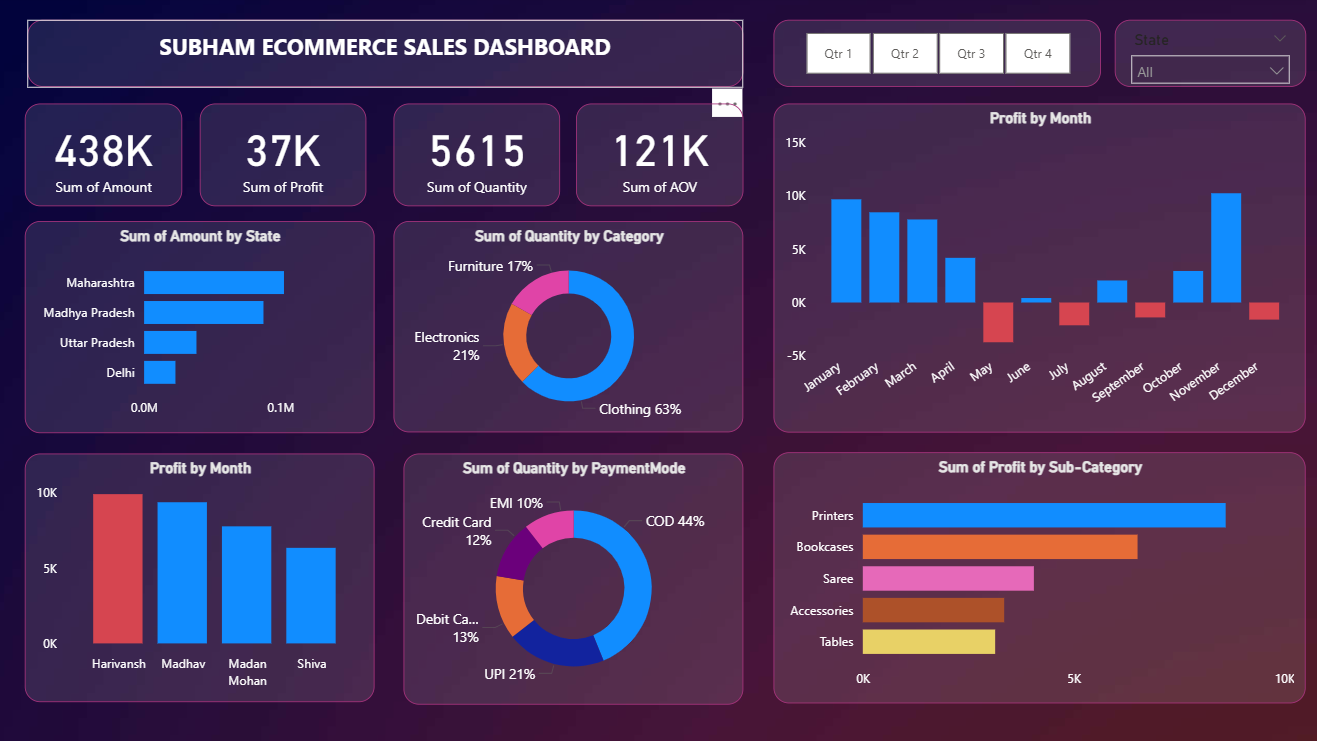

The page's visual inventory and layout, read from the dashboard file:
{"tool":"powerbi","page":{"name":"Page 1","canvas":[1280,720],"ordinal":0},"visuals":[{"type":"textbox","box":[30.2,22.9,691.3,65.1],"z":0},{"type":"columnChart","title":"Profit by Month","fields":{"Category":["Orders.Order Date.Variation.Date Hierarchy.Month"],"Y":["Details.Profit"]},"box":[750.4,103.8,513.9,317.3],"z":1},{"type":"barChart","fields":{"Category":["Details.Sub-Category"],"Y":["Details.Profit"]},"box":[750.4,440.4,513.9,242.5],"z":2},{"type":"donutChart","fields":{"Y":["Details.Quantity"],"Category":["Details.PaymentMode"]},"box":[393.3,441.6,328.2,242.5],"z":3},{"type":"donutChart","fields":{"Category":["Details.Category"],"Y":["Details.Quantity"]},"box":[383.6,217.2,337.8,203.9],"z":4},{"type":"card","fields":{"Values":["Details.Amount"]},"box":[27.7,103.8,152,98.9],"z":5},{"type":"card","fields":{"Values":["Details.Quantity"]},"box":[383.6,103.8,160.5,98.9],"z":6},{"type":"card","fields":{"Values":["Details.Profit"]},"box":[196.6,103.8,160.5,98.9],"z":7},{"type":"card","fields":{"Values":["Details.AOV"]},"box":[559.8,103.8,161.7,98.9],"z":8},{"type":"barChart","fields":{"Category":["Orders.State"],"Y":["Details.Amount"]},"box":[27.4,216.8,337.6,204.5],"z":9},{"type":"columnChart","title":"Profit by Month","fields":{"Y":["Details.Amount"],"Category":["Orders.CustomerName"]},"box":[27.7,441.6,337.8,240.1],"z":10},{"type":"slicer","fields":{"Values":["Orders.Order Date.Variation.Date Hierarchy.Quarter"]},"box":[750.4,22.9,316.1,65.1],"z":11},{"type":"slicer","fields":{"Values":["Orders.State"]},"box":[1079.8,22.9,184.6,65.1],"z":12}]}

Visuals, with their boxes in screenshot pixels (x1, y1, x2, y2), scaled from the page's 1280x720 canvas onto the 1317x741 screenshot:
textbox: <bbox>31, 24, 742, 91</bbox>
"Profit by Month" columnChart: <bbox>772, 107, 1301, 433</bbox>
barChart - Details.Sub-Category x Details.Profit: <bbox>772, 453, 1301, 703</bbox>
donutChart - Details.Quantity x Details.PaymentMode: <bbox>405, 454, 742, 704</bbox>
donutChart - Details.Category x Details.Quantity: <bbox>395, 224, 742, 433</bbox>
card - Details.Amount: <bbox>29, 107, 185, 209</bbox>
card - Details.Quantity: <bbox>395, 107, 560, 209</bbox>
card - Details.Profit: <bbox>202, 107, 367, 209</bbox>
card - Details.AOV: <bbox>576, 107, 742, 209</bbox>
barChart - Orders.State x Details.Amount: <bbox>28, 223, 376, 434</bbox>
"Profit by Month" columnChart: <bbox>29, 454, 376, 702</bbox>
slicer - Orders.Order Date.Variation.Date Hierarchy.Quarter: <bbox>772, 24, 1097, 91</bbox>
slicer - Orders.State: <bbox>1111, 24, 1301, 91</bbox>
